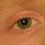eye: (19, 19, 31, 29)
